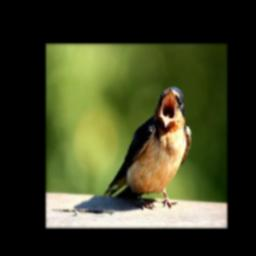Swallow: (102, 85, 192, 210)
